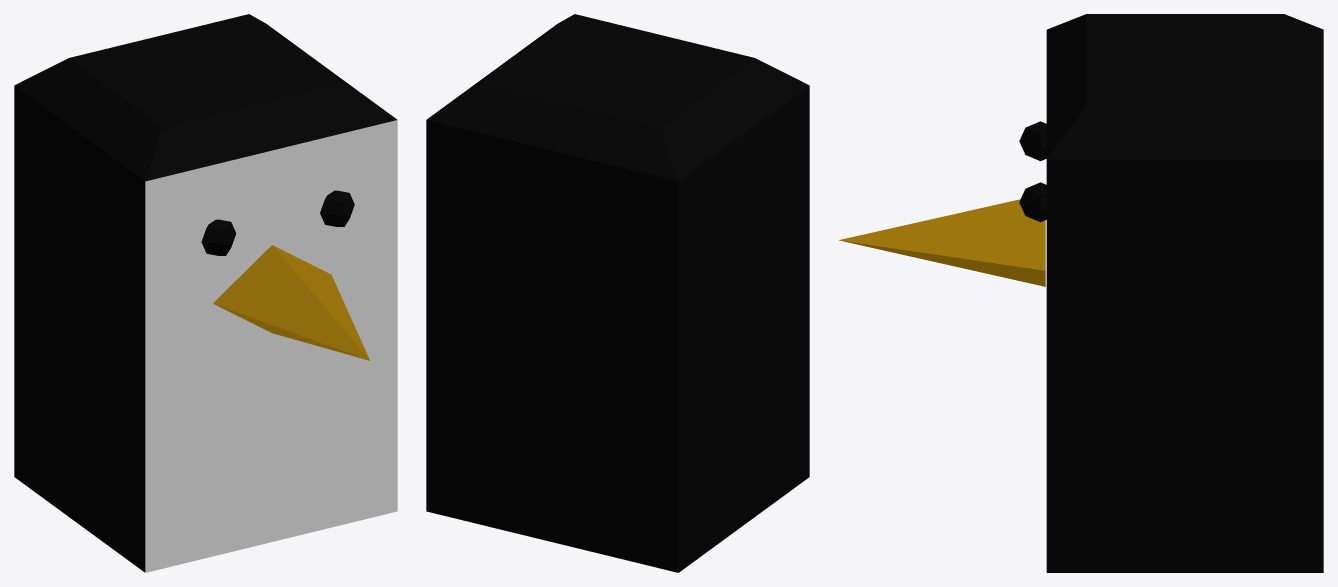
The model's file is Pinguino_cabeza (1).fbx.
3 renders of one model, left to right at view 1: azimuth 30°, elevation 25°; view 2: azimuth 150°, elevation 25°; view 3: azimuth 270°, elevation 25°, orthographic. The views are drawn at different scales.
Parts seen in each view (by area): view 1: Capocha, Pico_sup, Ojos, Pico_inf; view 2: Capocha; view 3: Capocha, Pico_sup, Pico_inf, Ojos.
Boxes of the visible parts, bbox=[...] form: Capocha: bbox=[14, 14, 397, 572]; Pico_sup: bbox=[213, 245, 370, 360]; Ojos: bbox=[201, 190, 354, 255]; Pico_inf: bbox=[214, 304, 368, 360]; Capocha: bbox=[426, 14, 809, 572]; Capocha: bbox=[1046, 14, 1323, 572]; Pico_sup: bbox=[839, 199, 1045, 270]; Pico_inf: bbox=[841, 240, 1045, 286]; Ojos: bbox=[1019, 121, 1046, 222].
Size of the model in its own units: 2.4 by 3.85 by 3.78.
